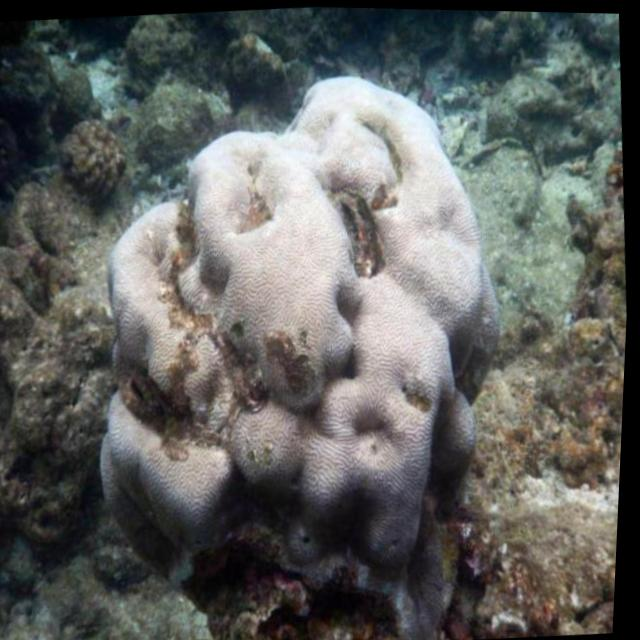Dead Coral: (7, 42, 627, 640)
